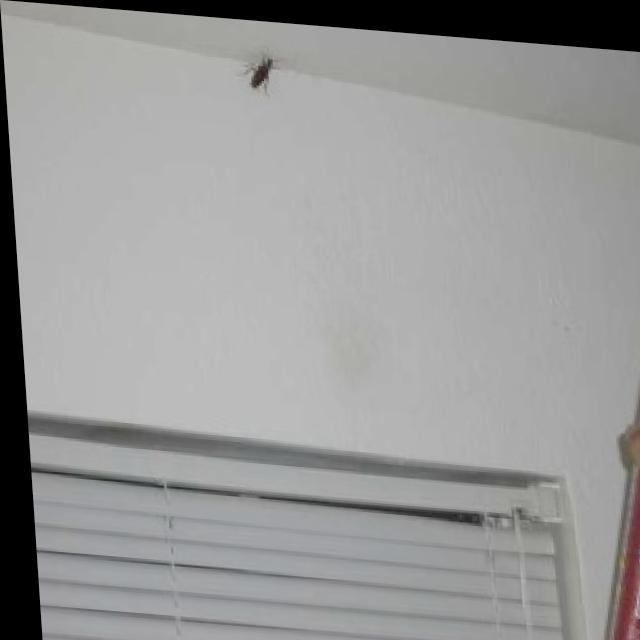cockroach: (240, 51, 279, 97)
